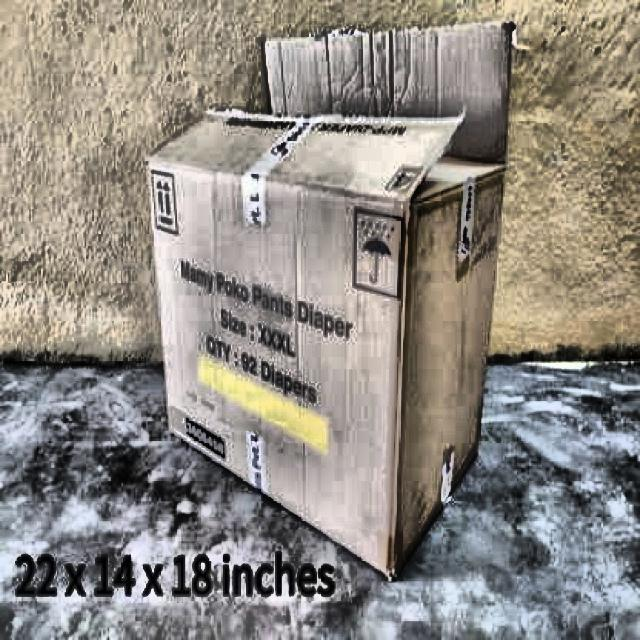Cardbox: (133, 7, 535, 571)
